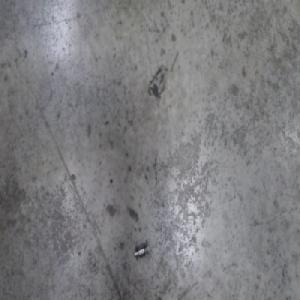Bolt: (135, 241, 151, 261)
